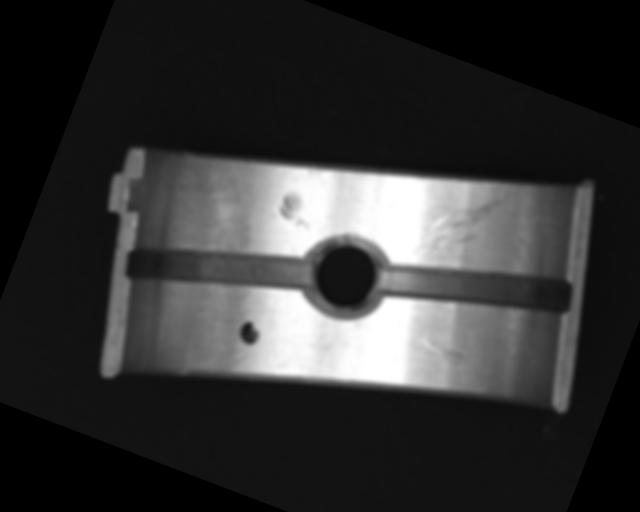blot: (234, 317, 264, 348)
bruise: (275, 188, 319, 229), (305, 163, 327, 182)
gap: (374, 217, 577, 355), (122, 201, 315, 339)
hole: (296, 226, 396, 330)
nick: (409, 164, 509, 280), (405, 329, 471, 368)
